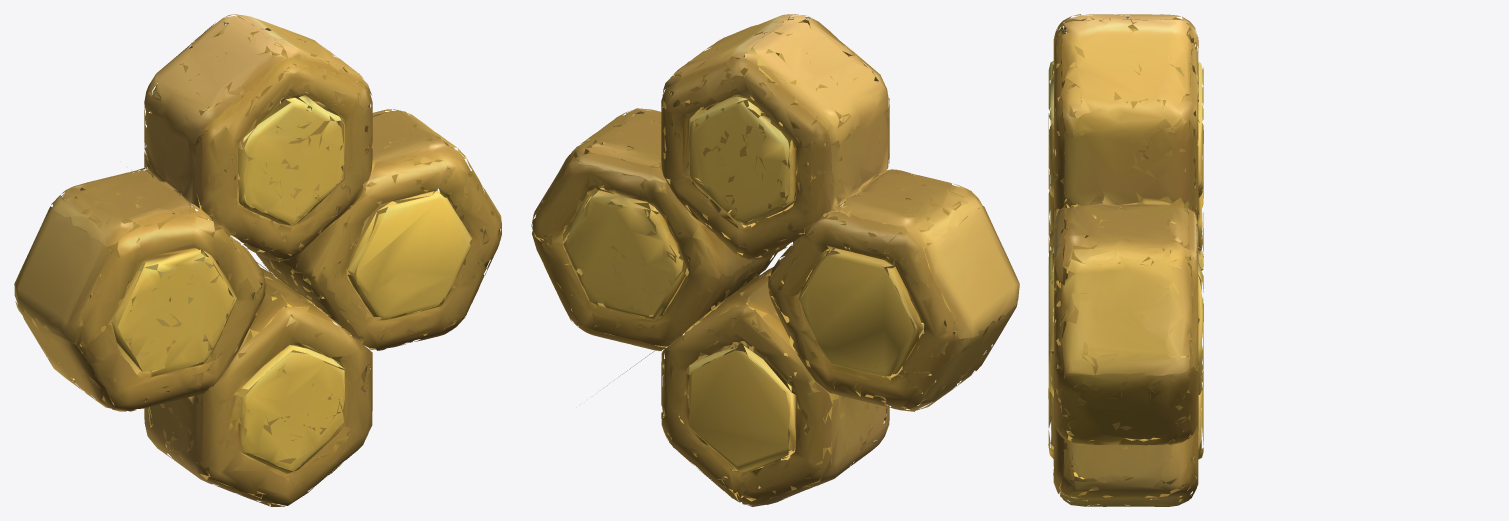
Rendered from sand.glb.
The picture shows the model from 3 angles, left to right: view 1: azimuth 30°, elevation 25°; view 2: azimuth 150°, elevation 25°; view 3: azimuth 270°, elevation 25°; orthographic projection. The views are drawn at different scales.
Bounding box in the file's own units: 0.1201 × 0.1194 × 0.0996.
Materials: 1 (1 with a texture image).
